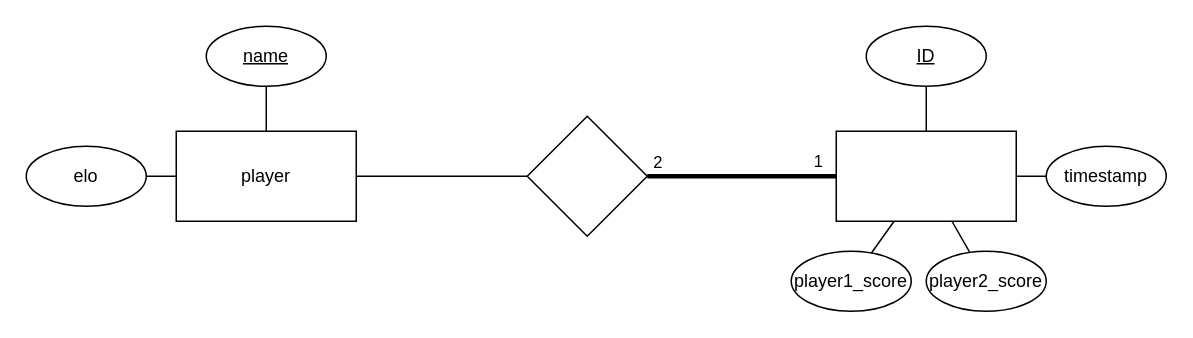
Image size: 1193x338. Some labels were removed from this diagram. Here are the shapes that lost their labels. From the top down, the centre of each, then its label:
the point at 586,175: plays
the point at 925,175: game
